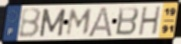A: (86, 6, 114, 39)
B: (114, 6, 141, 37), (17, 8, 43, 40)
H: (137, 5, 163, 37)
M: (38, 8, 68, 38), (65, 8, 94, 37)
